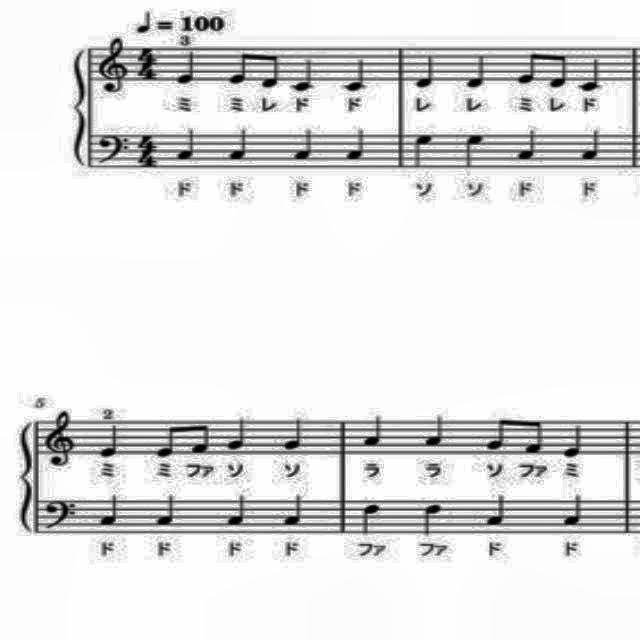Bass-clef: (92, 128, 134, 168), (42, 496, 82, 536)
Eighth-note: (481, 412, 511, 456), (226, 44, 254, 88), (520, 416, 548, 460), (154, 418, 182, 462), (514, 44, 542, 88), (546, 50, 572, 94), (260, 49, 284, 93), (189, 418, 215, 458)
Quarter-note: (576, 52, 608, 94), (341, 53, 372, 95), (410, 128, 438, 172), (412, 48, 440, 92), (464, 48, 492, 92), (482, 491, 512, 532), (288, 54, 318, 94), (418, 498, 446, 540), (462, 129, 490, 171), (280, 414, 308, 456), (560, 419, 588, 461), (356, 498, 384, 538), (226, 124, 254, 164), (96, 422, 124, 462), (154, 492, 182, 532), (578, 124, 606, 164), (342, 124, 370, 164), (422, 410, 450, 450), (514, 124, 542, 164), (359, 412, 387, 452), (280, 492, 308, 532), (291, 124, 319, 164), (225, 414, 253, 454), (96, 492, 124, 532), (224, 492, 252, 532), (560, 492, 588, 532), (173, 124, 200, 164), (175, 48, 201, 88)
Treble-clef: (42, 406, 82, 472), (97, 32, 135, 96)
